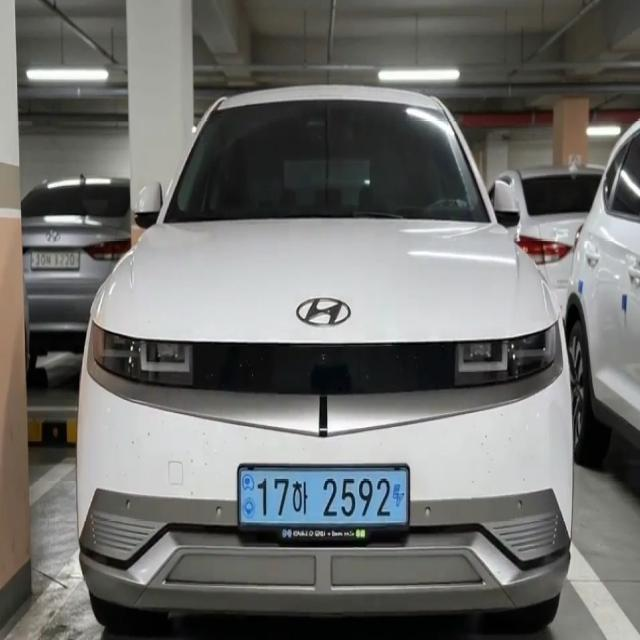car: (239, 471, 412, 531)
carev: (240, 469, 257, 524), (387, 477, 406, 521)
